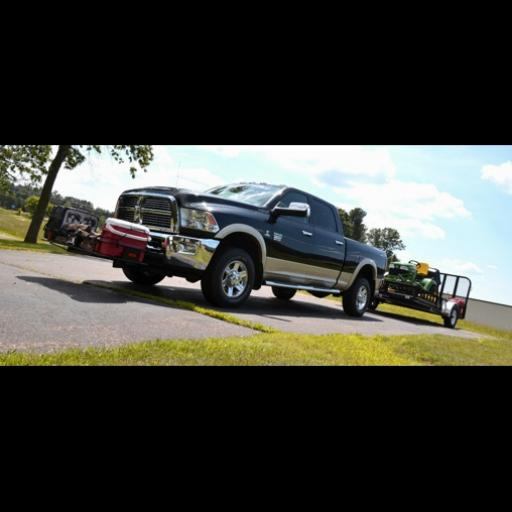truck: (42, 178, 392, 318)
